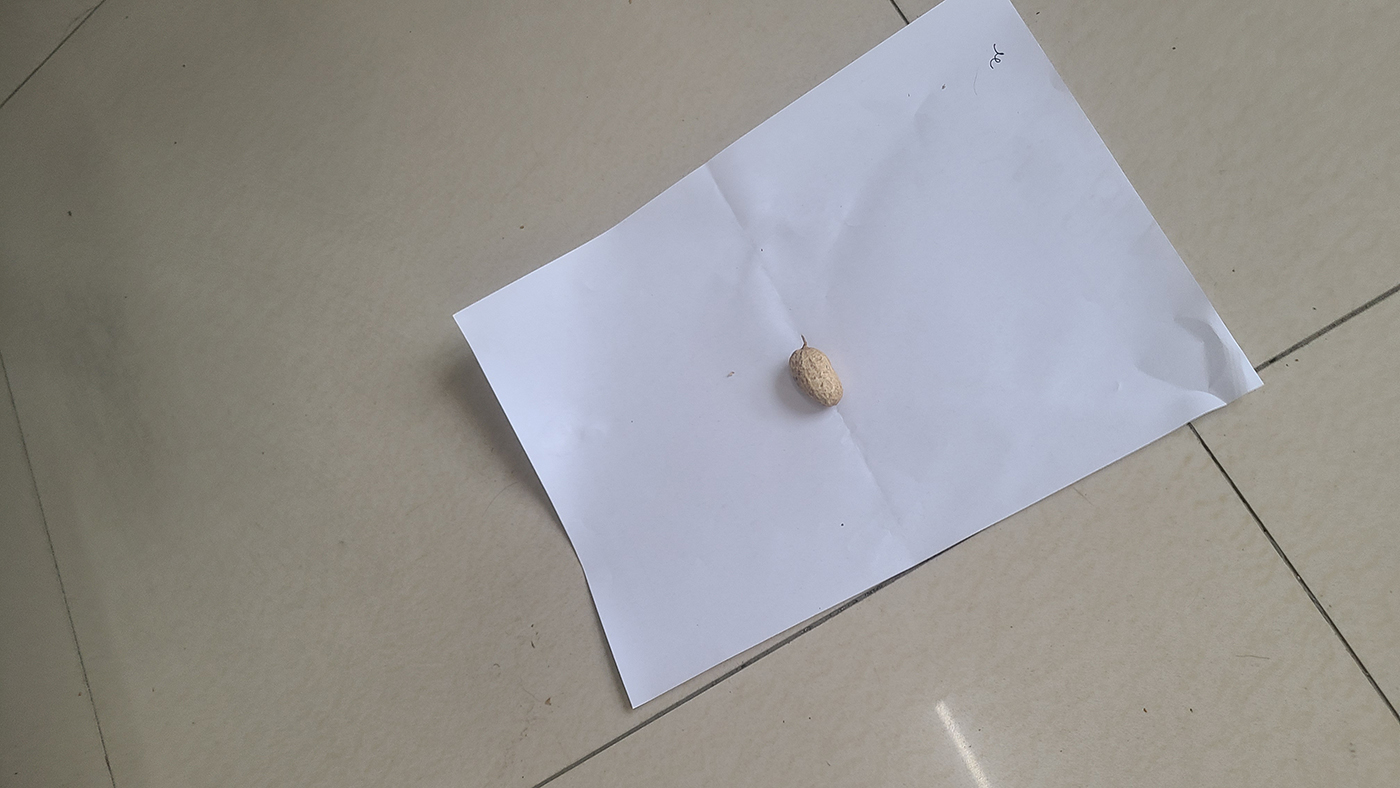h: (788, 346, 843, 408)
